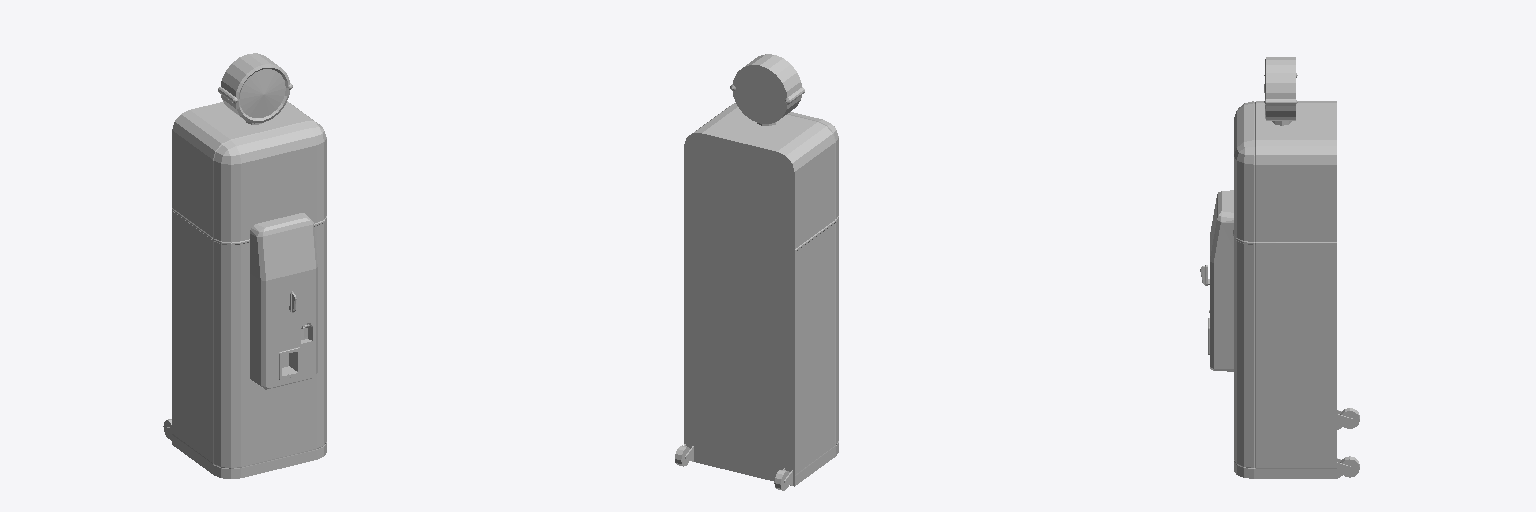
File: JuggernogMachine.obj
3 renders of one model, left to right at view 1: azimuth 30°, elevation 25°; view 2: azimuth 150°, elevation 25°; view 3: azimuth 270°, elevation 25°, orthographic.
Parts seen in each view (by area): view 1: jugg; view 2: jugg; view 3: jugg.
Part boxes in pixels (left/top/right/bottom): jugg: left=163, top=53, right=326, bottom=478; jugg: left=675, top=54, right=838, bottom=490; jugg: left=1200, top=57, right=1359, bottom=478.
Size of the model in its own units: 7.05 by 23.73 by 8.76.